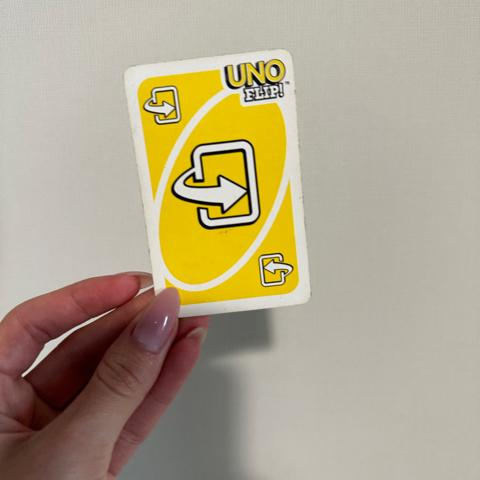lyellowflip-20: (138, 71, 193, 136)
